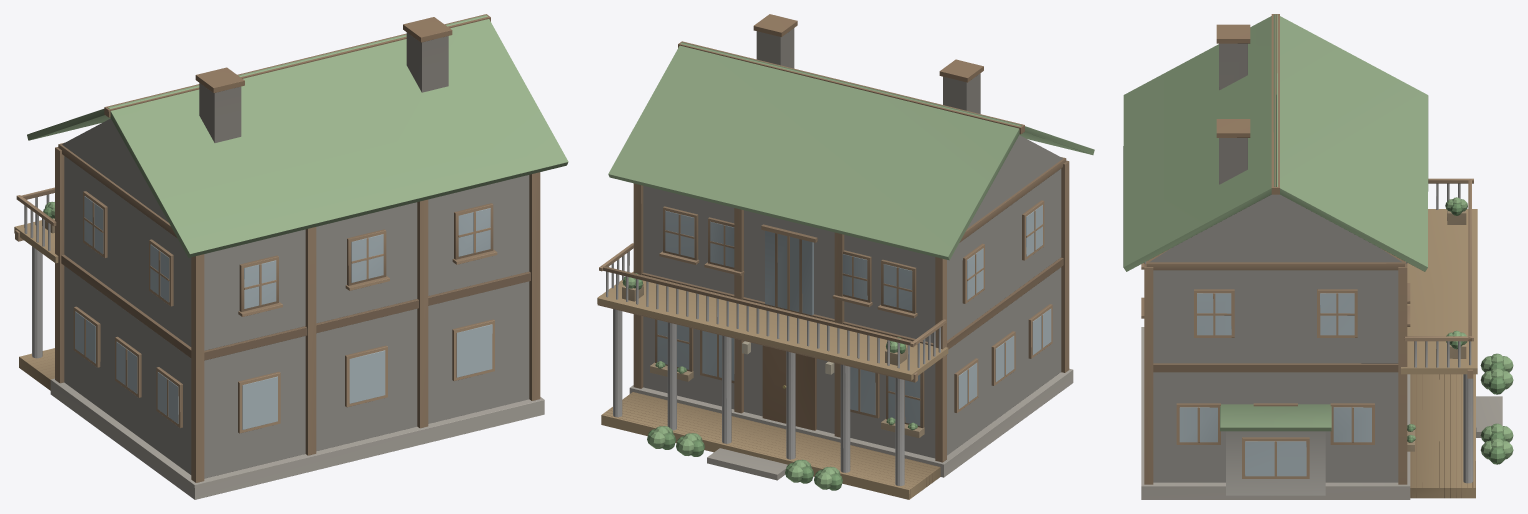
Rendered from home_manor2__green_low.glb.
3 renders of one model, left to right at view 1: azimuth 30°, elevation 25°; view 2: azimuth 150°, elevation 25°; view 3: azimuth 270°, elevation 25°, orthographic. The views are drawn at different scales.
Bounding box in the file's own units: 11.05 × 9.84 × 10.14.
